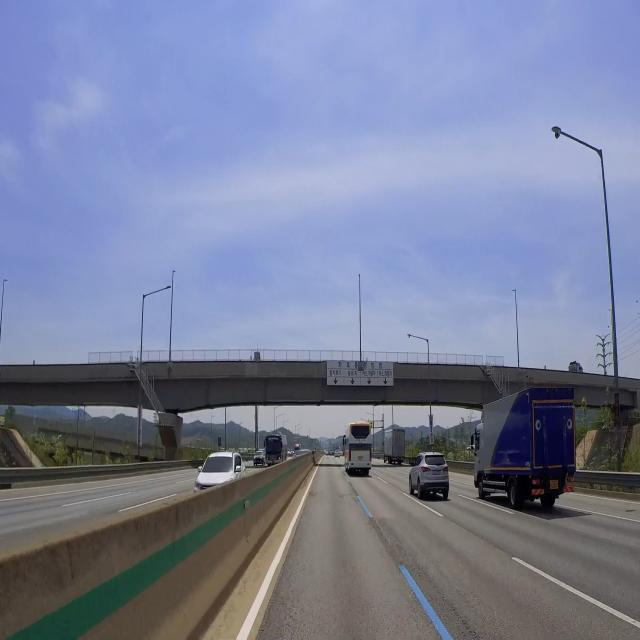car: (547, 477, 563, 492), (430, 466, 445, 481), (353, 454, 368, 466)
